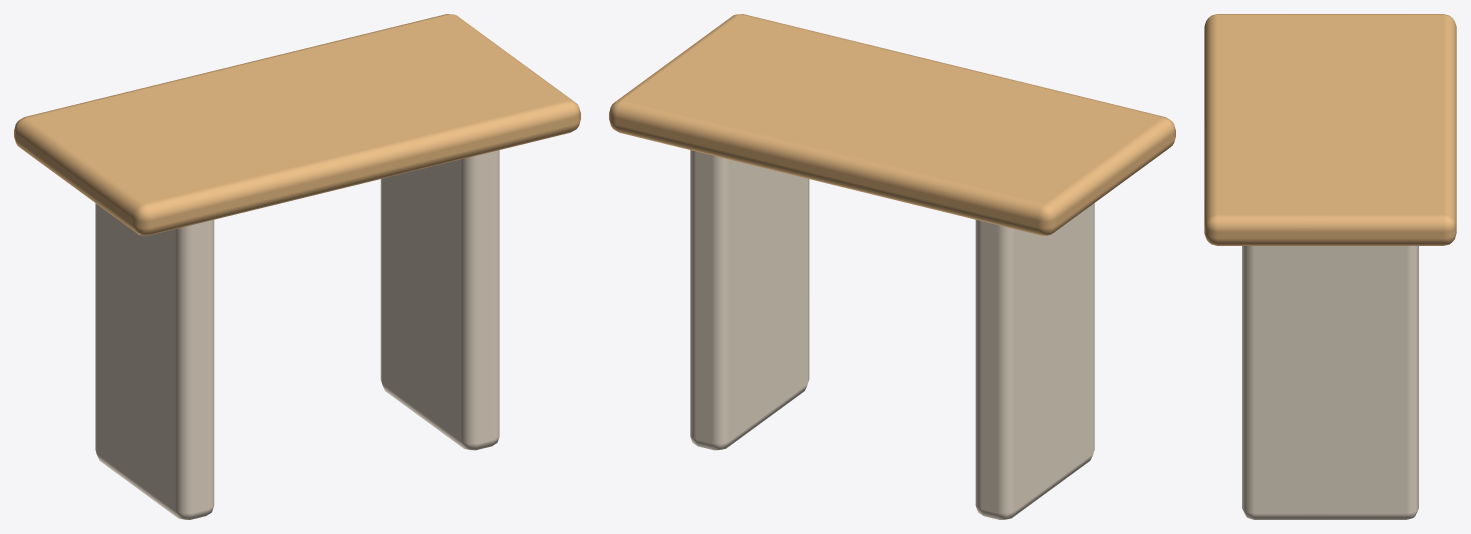
The model's file is kit_standing_table_v1.glb.
The picture shows the model from 3 angles, left to right: view 1: azimuth 30°, elevation 25°; view 2: azimuth 150°, elevation 25°; view 3: azimuth 270°, elevation 25°; orthographic projection. The views are drawn at different scales.
Visible parts, largest first — view 1: body; view 2: body; view 3: body.
Boxes of the visible parts, <box> form: body: <box>14,14,580,519</box>; body: <box>609,14,1175,519</box>; body: <box>1204,14,1456,519</box>.
Size of the model in its own units: 1.42 by 1.05 by 0.72.
